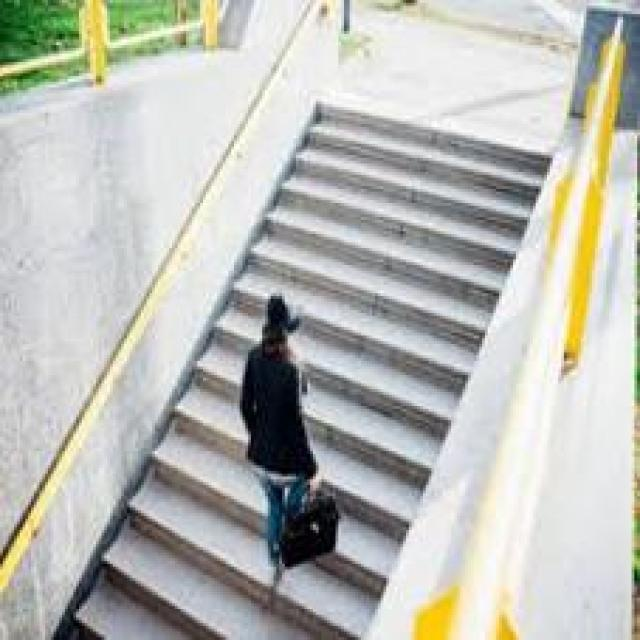stair: (257, 149, 491, 364)
